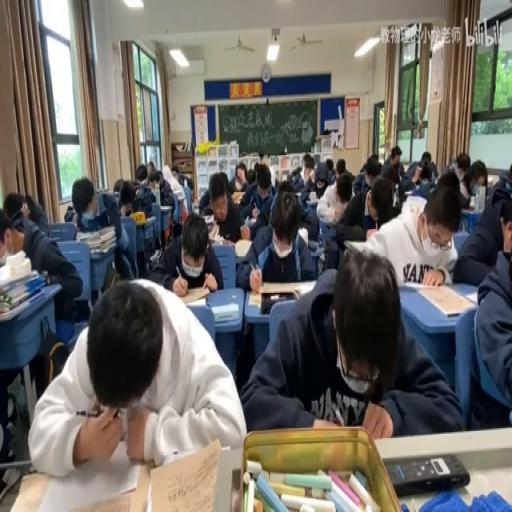calculator: (27, 444, 145, 509), (146, 436, 223, 512), (408, 282, 475, 316), (250, 280, 314, 312), (210, 300, 238, 322), (180, 286, 210, 304), (85, 209, 109, 230), (101, 189, 117, 215), (234, 236, 252, 258), (345, 239, 371, 253), (462, 288, 478, 306), (207, 222, 220, 240), (148, 247, 160, 266), (247, 292, 262, 307), (171, 184, 185, 200), (219, 234, 235, 248), (296, 224, 307, 244), (202, 213, 214, 225), (318, 218, 336, 226), (243, 214, 257, 224), (143, 214, 156, 224), (308, 239, 318, 252), (308, 189, 317, 201), (160, 203, 172, 212), (461, 205, 474, 212), (192, 200, 198, 214), (403, 191, 413, 196)
paper: (30, 274, 245, 474), (242, 246, 456, 437), (0, 196, 82, 347), (362, 176, 462, 289), (238, 188, 316, 290), (72, 175, 130, 291), (453, 179, 512, 286), (148, 210, 222, 293), (325, 173, 371, 259), (142, 161, 178, 213), (402, 148, 436, 193), (22, 192, 49, 235), (2, 190, 28, 224), (116, 179, 138, 218), (382, 145, 404, 181), (434, 168, 462, 195), (226, 160, 248, 194), (237, 185, 256, 217), (493, 164, 512, 194), (302, 152, 316, 185), (174, 164, 190, 186), (454, 152, 470, 174), (258, 150, 272, 174), (364, 165, 379, 186), (134, 164, 148, 186), (470, 170, 484, 190), (276, 180, 295, 194), (461, 174, 473, 192), (64, 206, 76, 222), (336, 158, 346, 176), (245, 166, 255, 184), (324, 156, 334, 174), (290, 165, 300, 181), (421, 151, 430, 165), (369, 154, 378, 164)
person: (384, 452, 470, 494)
